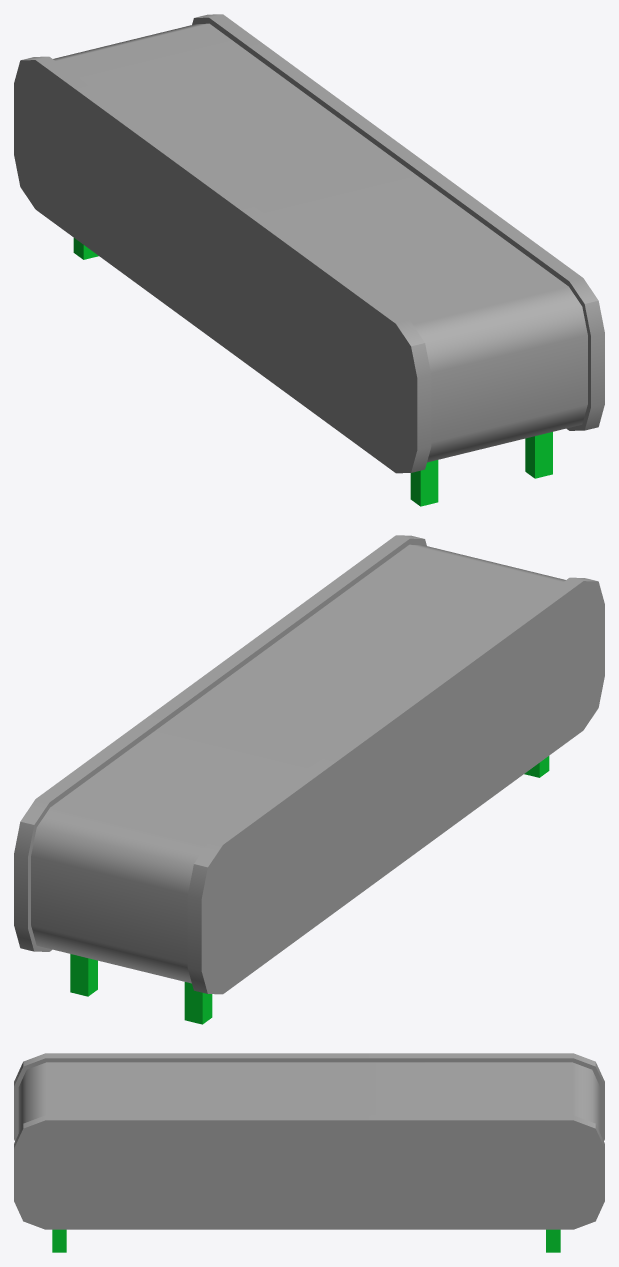
File: meuble_tele.fbx
The picture shows the model from 3 angles, top to bottom: view 1: azimuth 30°, elevation 25°; view 2: azimuth 150°, elevation 25°; view 3: azimuth 270°, elevation 25°; orthographic projection. The views are drawn at different scales.
Visible parts, largest first — view 1: meubletele; view 2: meubletele; view 3: meubletele.
Part boxes in pixels (<box>): meubletele: <box>14,14,604,506</box>; meubletele: <box>14,535,604,1024</box>; meubletele: <box>14,1053,604,1252</box>.
Size of the model in its own units: 66.75 by 65.76 by 249.
